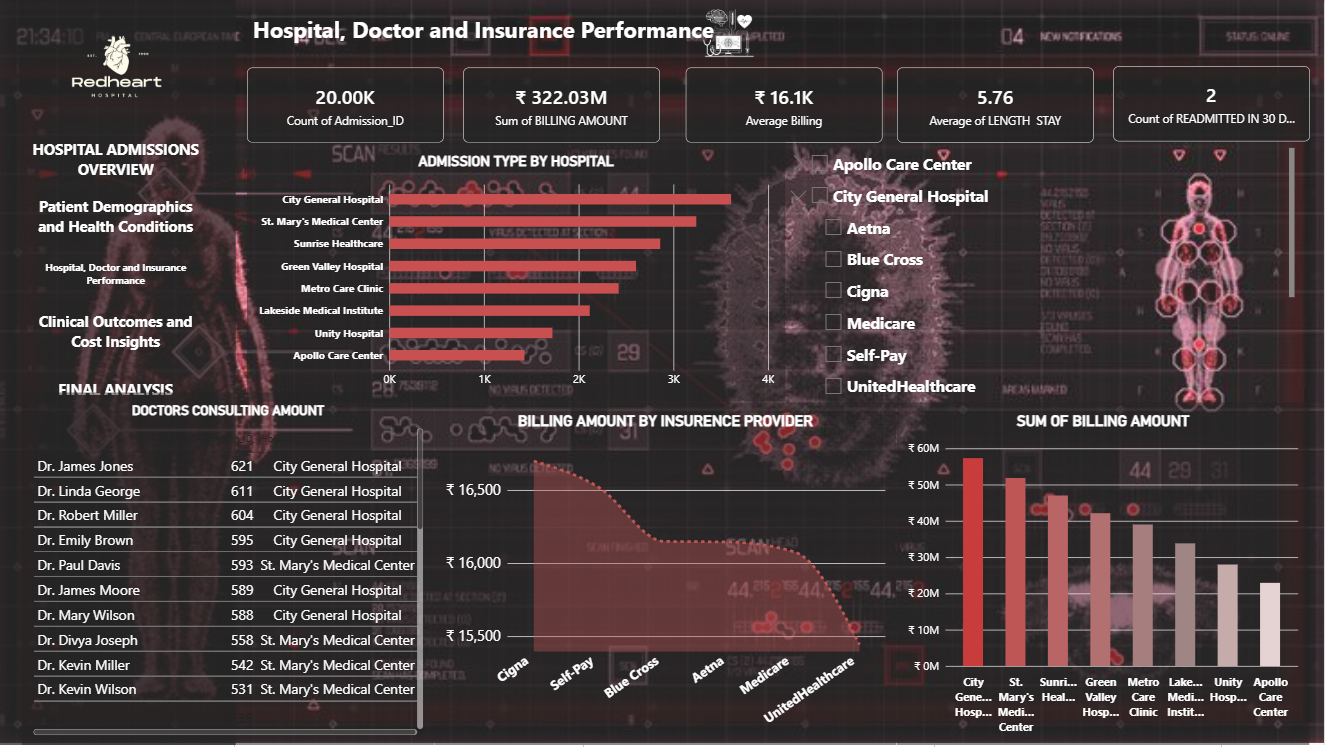

The page's visual inventory and layout, read from the dashboard file:
{"tool":"powerbi","page":{"name":"Hospital, Doctor and Insurance Performance","canvas":[1920,1080],"ordinal":2},"visuals":[{"type":"card","fields":{"Values":["Sum(hospital_admissions_patient_analytics.Billing_Amount)"]},"box":[675.6,97.8,284.8,108.7],"z":0,"group":"g1"},{"type":"card","fields":{"Values":["Count(hospital_admissions_patient_analytics.Admission_ID)"]},"box":[362.2,97.8,284.8,108.7],"z":1000,"group":"g1"},{"type":"card","fields":{"Values":["Count(hospital_admissions_patient_analytics.Readmitted_30_Days)"]},"box":[1615.6,95.6,284.8,108.7],"z":2000,"group":"g1"},{"type":"card","fields":{"Values":["Avg(hospital_admissions_patient_analytics.Length_of_Stay)"]},"box":[1302.2,97.8,284.8,108.7],"z":3000,"group":"g1"},{"type":"card","fields":{"Values":["hospital_admissions_patient_analytics.Average Billing"]},"box":[997.8,97.8,284.8,108.7],"z":4000,"group":"g1"},{"type":"shape","box":[0,0,345.7,1080.4],"z":5000,"group":"g1"},{"type":"textbox","box":[362.2,20,1082.2,64.4],"z":6000,"group":"g1"},{"type":"image","box":[0,0,346.7,193.3],"z":7000,"group":"g1"},{"type":"image","box":[780.1,0,554.2,95.4],"z":8000,"group":"g1"},{"type":"pageNavigator","box":[37,193.5,271.7,407.5],"z":9000,"group":"g1"},{"type":"clusteredBarChart","title":"ADMISSION TYPE BY HOSPITAL","fields":{"Category":["hospital_admissions_patient_analytics.Hospital"],"Y":["CountNonNull(hospital_admissions_patient_analytics.Admission_Type)"]},"box":[361.4,206.8,779.5,375],"z":10000,"group":"g1"},{"type":"columnChart","title":"SUM OF BILLING AMOUNT","fields":{"Category":["hospital_admissions_patient_analytics.Hospital"],"Y":["Sum(hospital_admissions_patient_analytics.BILLING AMOUNT)"]},"box":[1302.9,582.5,596.9,498.1],"z":11000,"group":"g1"},{"type":"tableEx","title":"DOCTORS CONSULTING AMOUNT ","fields":{"Values":["hospital_admissions_patient_analytics.Doctor","hospital_admissions_patient_analytics.Admission_ID","hospital_admissions_patient_analytics.Hospital"]},"box":[37,568.1,597,512],"z":12000,"group":"g1"},{"type":"areaChart","title":"BILLING AMOUNT BY INSURENCE PROVIDER ","fields":{"Category":["hospital_admissions_patient_analytics.Insurance_Provider"],"Y":["Avg(hospital_admissions_patient_analytics.BILLING AMOUNT)"]},"box":[634,582.5,669,498.1],"z":13000,"group":"g1"},{"type":"slicer","fields":{"Values":["hospital_locations.Hospital","hospital_admissions_patient_analytics.Insurance_Provider"]},"box":[1140.9,211.4,738.6,375],"z":14000,"group":"g1"},{"type":"group","id":"g1","title":"Group 1","box":[0,0,1900.3,1080.6],"z":14001}]}

Visuals, with their boxes in screenshot pixels (x1, y1, x2, y2), scaled from the page's 1920x1080 canvas onto the 1325x747 screenshot:
card - Sum(hospital_admissions_patient_analytics.Billing_Amount): 466:68:663:143
card - Count(hospital_admissions_patient_analytics.Admission_ID): 250:68:446:143
card - Count(hospital_admissions_patient_analytics.Readmitted_30_Days): 1115:66:1311:141
card - Avg(hospital_admissions_patient_analytics.Length_of_Stay): 899:68:1095:143
card - hospital_admissions_patient_analytics.Average Billing: 689:68:885:143
shape: 0:0:239:746
textbox: 250:14:997:58
image: 0:0:239:134
image: 538:0:921:66
pageNavigator: 26:134:213:416
"ADMISSION TYPE BY HOSPITAL" clusteredBarChart: 249:143:787:402
"SUM OF BILLING AMOUNT" columnChart: 899:403:1311:746
"DOCTORS CONSULTING AMOUNT " tableEx: 26:393:438:746
"BILLING AMOUNT BY INSURENCE PROVIDER " areaChart: 438:403:899:746
slicer - hospital_locations.Hospital x hospital_admissions_patient_analytics.Insurance_Provider: 787:146:1297:406
"Group 1" group: 0:0:1311:746
